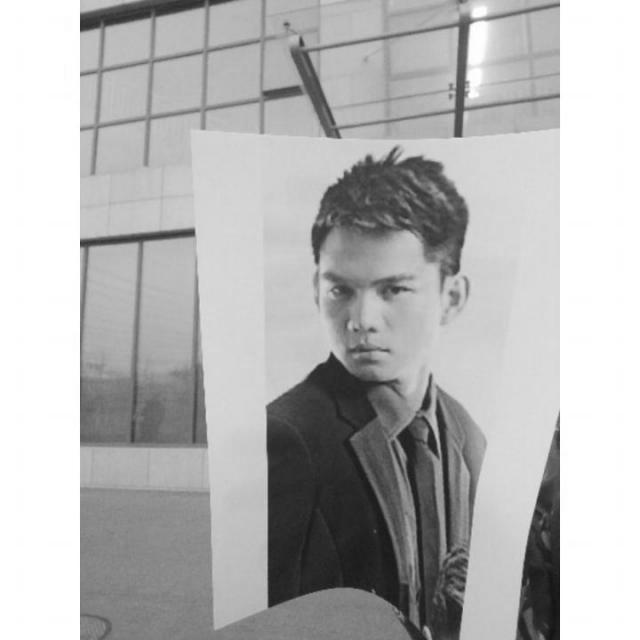fake: (188, 124, 558, 640)
